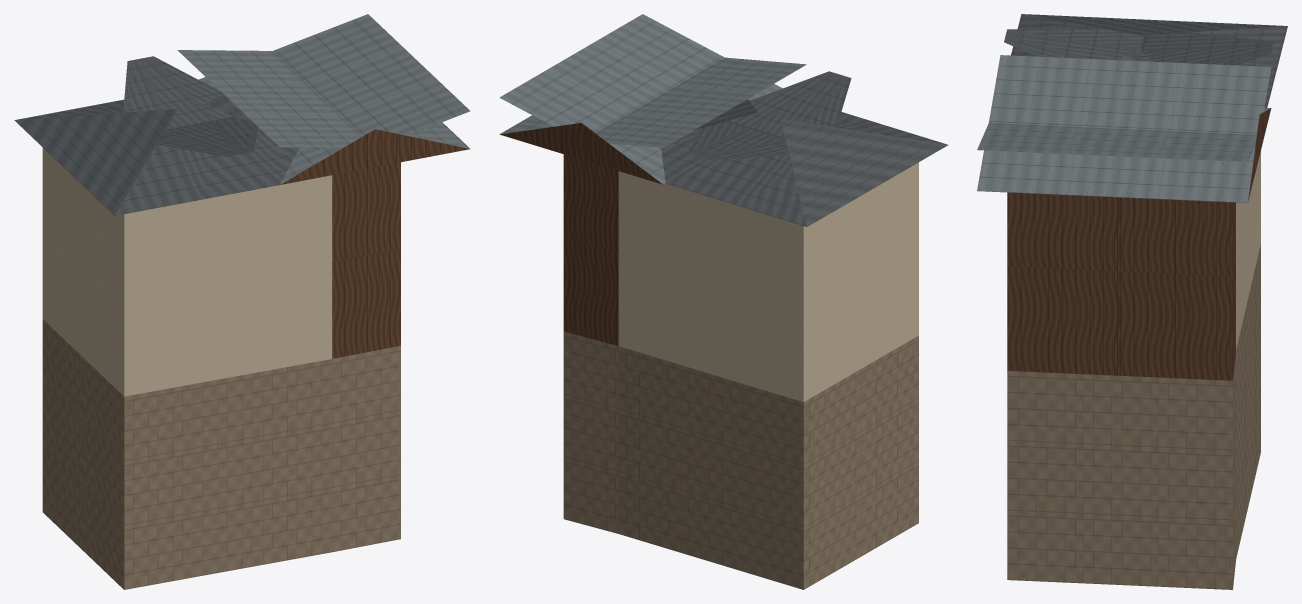
Rendered from bld_c31_44_254.gltf.
3 renders of one model, left to right at view 1: azimuth 30°, elevation 25°; view 2: azimuth 150°, elevation 25°; view 3: azimuth 270°, elevation 25°, orthographic. The views are drawn at different scales.
Visible parts, largest first — view 1: bld_c31_44_254; view 2: bld_c31_44_254; view 3: bld_c31_44_254.
Boxes of the visible parts, left/top/right/bottom form: bld_c31_44_254: left=14, top=14, right=470, bottom=589; bld_c31_44_254: left=499, top=14, right=947, bottom=589; bld_c31_44_254: left=977, top=14, right=1287, bottom=589.
Bounding box in the file's own units: 9.89 × 11.2 × 6.87.
Materials: 6 (6 with a texture image).
